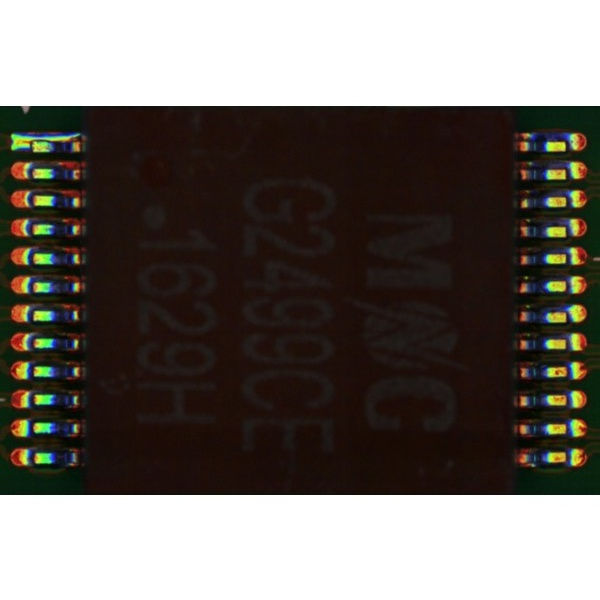Bad_podu: (20, 138, 39, 146)
Bad_qiaojiao: (34, 132, 81, 140)
